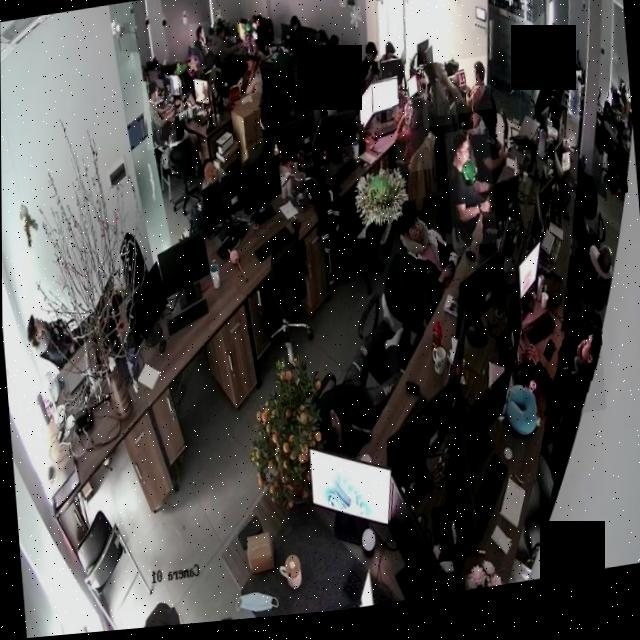person: (517, 333, 605, 432), (444, 134, 497, 258), (396, 201, 455, 302), (467, 108, 509, 195), (434, 63, 492, 125), (391, 102, 432, 182), (223, 55, 267, 116), (141, 80, 176, 153), (603, 115, 627, 206), (419, 69, 450, 137), (209, 24, 242, 68), (349, 48, 381, 91), (189, 25, 212, 74)
